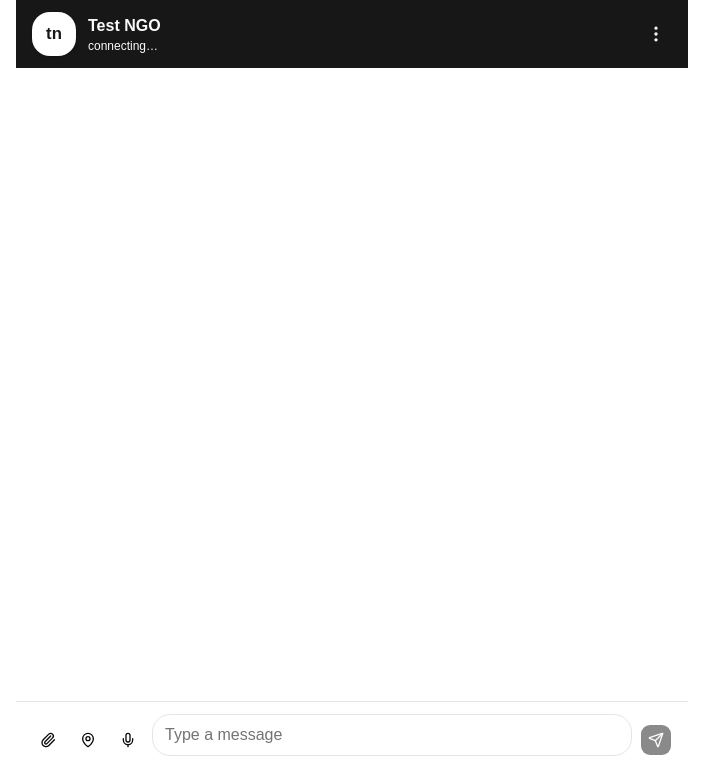
Test: <Chat /> media, voice and location composers › sends plain text when nothing is attached
Type "hello" into the text box with test id "composerInput". click: {"x": 392, "y": 735}
box: top-left (152, 714), bottom-right (632, 756)
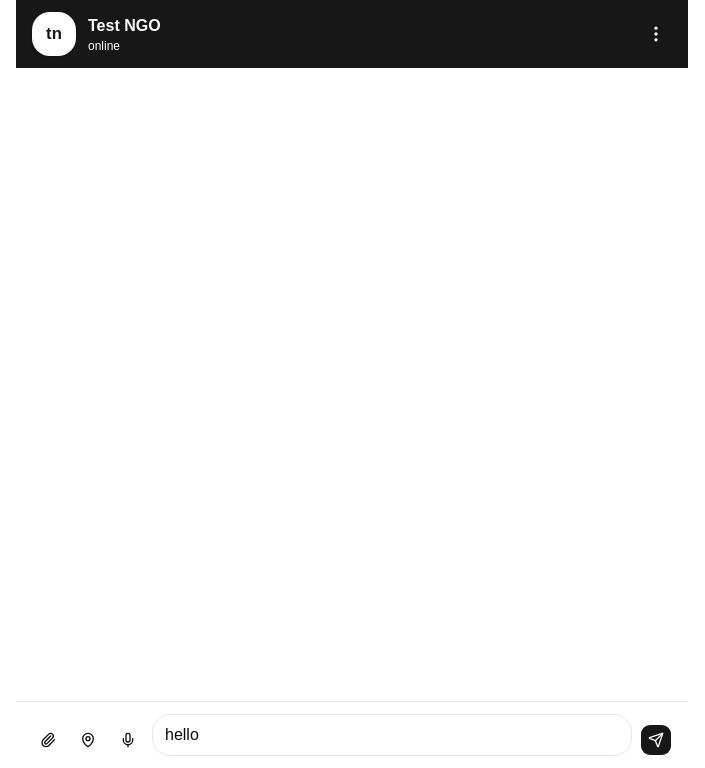
Click the button with test id "sendButton". click: {"x": 656, "y": 740}
box: top-left (640, 724), bottom-right (672, 756)
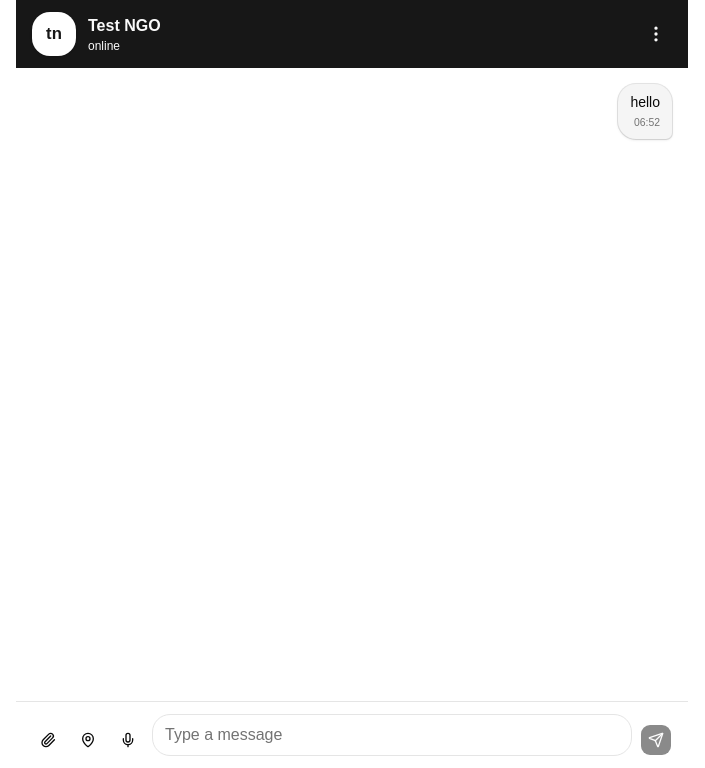
Check: the text "hello" is shown, box top-left (630, 94), bottom-right (660, 110)
